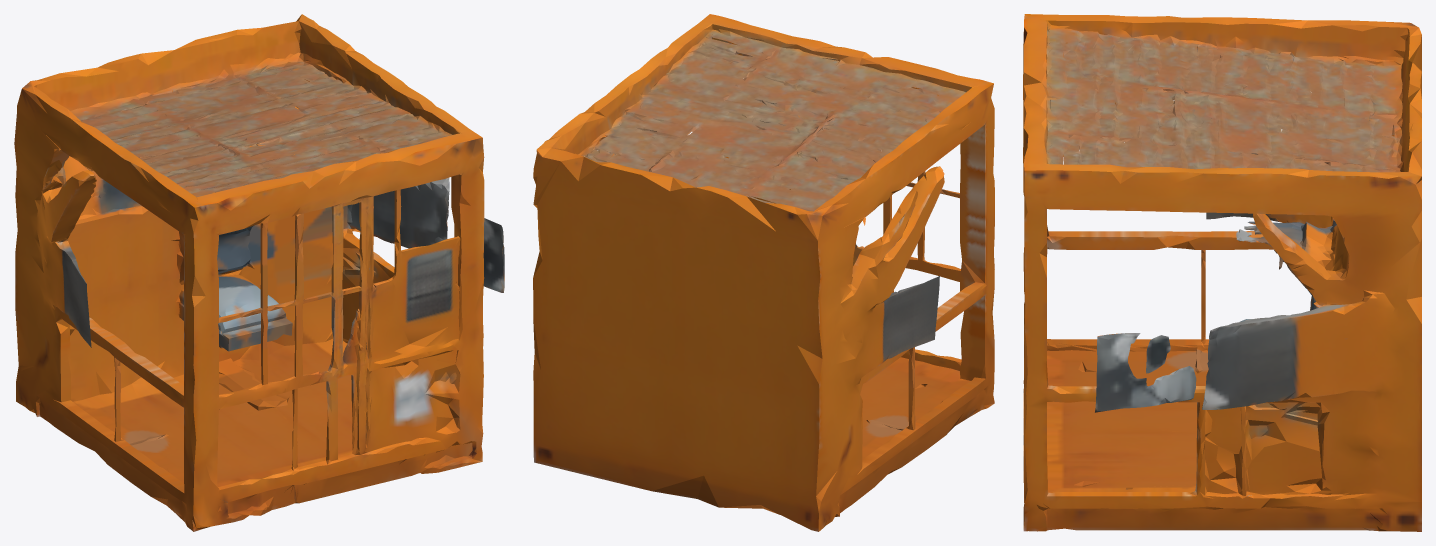
The model's file is golem_cockpit.glb.
3 views of the same model, side by side, from view 1: azimuth 30°, elevation 25°; view 2: azimuth 150°, elevation 25°; view 3: azimuth 270°, elevation 25° (orthographic). The views are drawn at different scales.
Visible parts, largest first — view 1: golem_cockpit; view 2: golem_cockpit; view 3: golem_cockpit.
Part boxes in pixels (<box>): golem_cockpit: <box>14,14,504,531</box>; golem_cockpit: <box>533,14,994,531</box>; golem_cockpit: <box>1023,14,1421,531</box>.
Bounding box in the file's own units: 1.9 × 1.57 × 1.57.
1 material, 1 textured.
